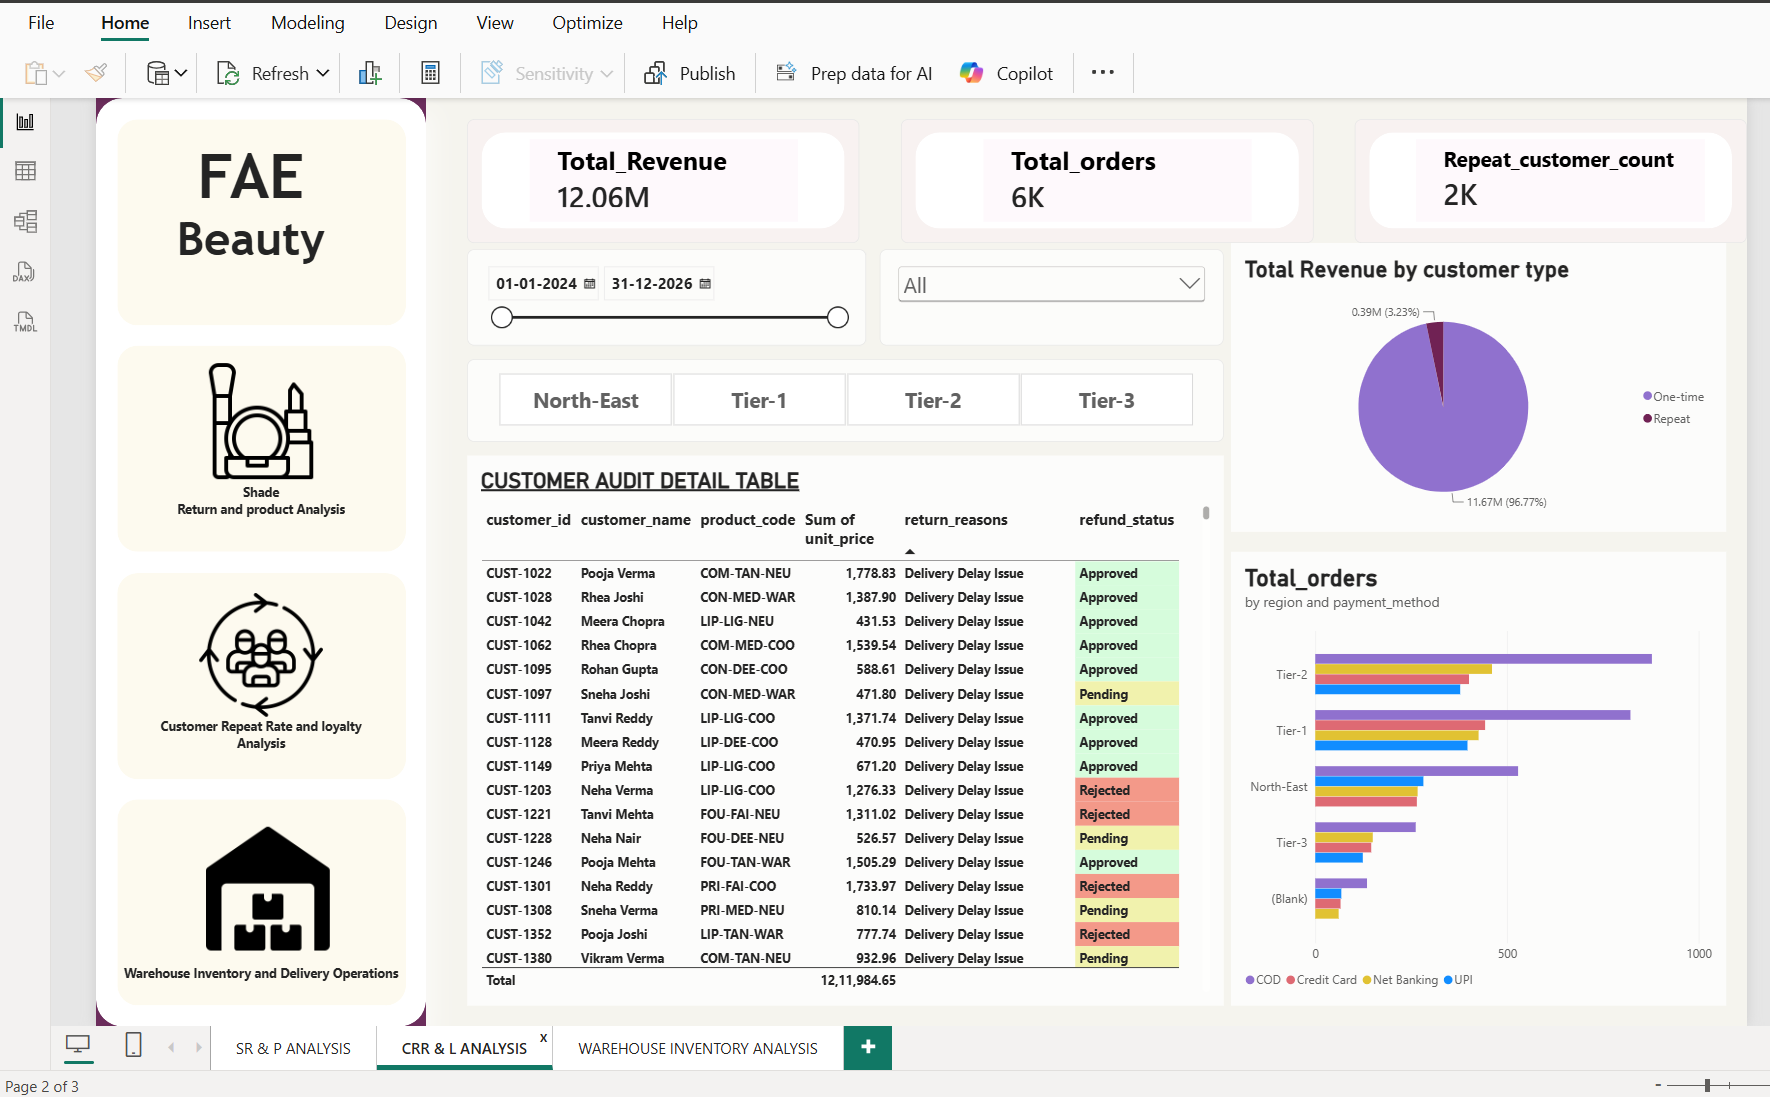

Layout of this report page (visuals, bound fields, positions):
{"tool":"powerbi","page":{"name":"CRR & L ANALYSIS","canvas":[1920,1080],"ordinal":1},"visuals":[{"type":"group","id":"g1","title":"Group 1","box":[0,0,384,1080],"z":0,"group":"g2"},{"type":"shape","box":[0,0,384,1080],"z":0,"group":"g1"},{"type":"shape","box":[432,24,456,144],"z":0},{"type":"shape","box":[24,24,336,240],"z":1000,"group":"g1"},{"type":"shape","box":[936,24,480,144],"z":1000},{"type":"textbox","box":[48,48,264,192],"z":1000,"group":"g2"},{"type":"shape","box":[1464,24,456,144],"z":2000},{"type":"shape","box":[24,288,336,240],"z":2000,"group":"g1"},{"type":"textbox","box":[48,448,288,48],"z":2000,"group":"g2"},{"type":"group","id":"g2","title":"Group 2","box":[0,0,384,1080],"z":3000},{"type":"shape","box":[24,552,336,240],"z":3000,"group":"g1"},{"type":"textbox","box":[48,720,288,48],"z":3000,"group":"g2"},{"type":"cardVisual","fields":{"Data":["Measure.Total_Revenue"]},"box":[504,48,312,96],"z":4000},{"type":"shape","box":[24,816,336,240],"z":4000,"group":"g1"},{"type":"textbox","box":[16,1008,352,32],"z":4000,"group":"g2"},{"type":"cardVisual","fields":{"Data":["Measure.Total_orders"]},"box":[1032,48,312,96],"z":5000},{"type":"cardVisual","fields":{"Data":["Measure.Repeat_customer_count"]},"box":[1536,48,336,96],"z":6000},{"type":"actionButton","box":[32,816,336,224],"z":7000},{"type":"actionButton","box":[32,288,304,224],"z":8000},{"type":"pieChart","title":"Total Revenue by customer type","fields":{"Category":["fact_sales-order_process.Order_frequency_type"],"Y":["Measure.Total_Revenue"]},"box":[1320,168,576,336],"z":9000},{"type":"clusteredBarChart","fields":{"Category":["dim_locations.region"],"Series":["fact_sales-order_process.payment_method"],"Y":["Measure.Total_orders"]},"box":[1320,528,576,528],"z":10000},{"type":"tableEx","title":"CUSTOMER AUDIT DETAIL TABLE","fields":{"Values":["dim_customer.customer_id","dim_customer.customer_name","dim_product.product_code","Sum(fact_sales-order_process.unit_price)","fact_sales-order_process.return_reasons","fact_sales-order_process.refund_status"]},"box":[432,416,880,640],"z":11000},{"type":"slicer","fields":{"Values":["dim_date.Date"]},"box":[432,176,464,112],"z":12000},{"type":"slicer","fields":{"Values":["dim_locations.region"]},"box":[432,304,880,96],"z":13000},{"type":"slicer","fields":{"Values":["dim_product.category"]},"box":[912,176,400,112],"z":14000},{"type":"image","box":[112,304,160,144],"z":15000},{"type":"image","box":[96,576,192,144],"z":16000},{"type":"image","box":[112,848,176,144],"z":17000}]}

Visuals, with their boxes on the page's 1920x1080 design canvas (x1, y1, x2, y2). These are canvas units, not pixel positions in the 1770x1097 screenshot, which may show the page scaled, cropped or inside an application window:
"Group 1" group: bbox=(0, 0, 384, 1080)
shape: bbox=(0, 0, 384, 1080)
shape: bbox=(432, 24, 888, 168)
shape: bbox=(24, 24, 360, 264)
shape: bbox=(936, 24, 1416, 168)
textbox: bbox=(48, 48, 312, 240)
shape: bbox=(1464, 24, 1920, 168)
shape: bbox=(24, 288, 360, 528)
textbox: bbox=(48, 448, 336, 496)
"Group 2" group: bbox=(0, 0, 384, 1080)
shape: bbox=(24, 552, 360, 792)
textbox: bbox=(48, 720, 336, 768)
cardVisual - Measure.Total_Revenue: bbox=(504, 48, 816, 144)
shape: bbox=(24, 816, 360, 1056)
textbox: bbox=(16, 1008, 368, 1040)
cardVisual - Measure.Total_orders: bbox=(1032, 48, 1344, 144)
cardVisual - Measure.Repeat_customer_count: bbox=(1536, 48, 1872, 144)
actionButton: bbox=(32, 816, 368, 1040)
actionButton: bbox=(32, 288, 336, 512)
"Total Revenue by customer type" pieChart: bbox=(1320, 168, 1896, 504)
clusteredBarChart - dim_locations.region x fact_sales-order_process.payment_method: bbox=(1320, 528, 1896, 1056)
"CUSTOMER AUDIT DETAIL TABLE" tableEx: bbox=(432, 416, 1312, 1056)
slicer - dim_date.Date: bbox=(432, 176, 896, 288)
slicer - dim_locations.region: bbox=(432, 304, 1312, 400)
slicer - dim_product.category: bbox=(912, 176, 1312, 288)
image: bbox=(112, 304, 272, 448)
image: bbox=(96, 576, 288, 720)
image: bbox=(112, 848, 288, 992)
